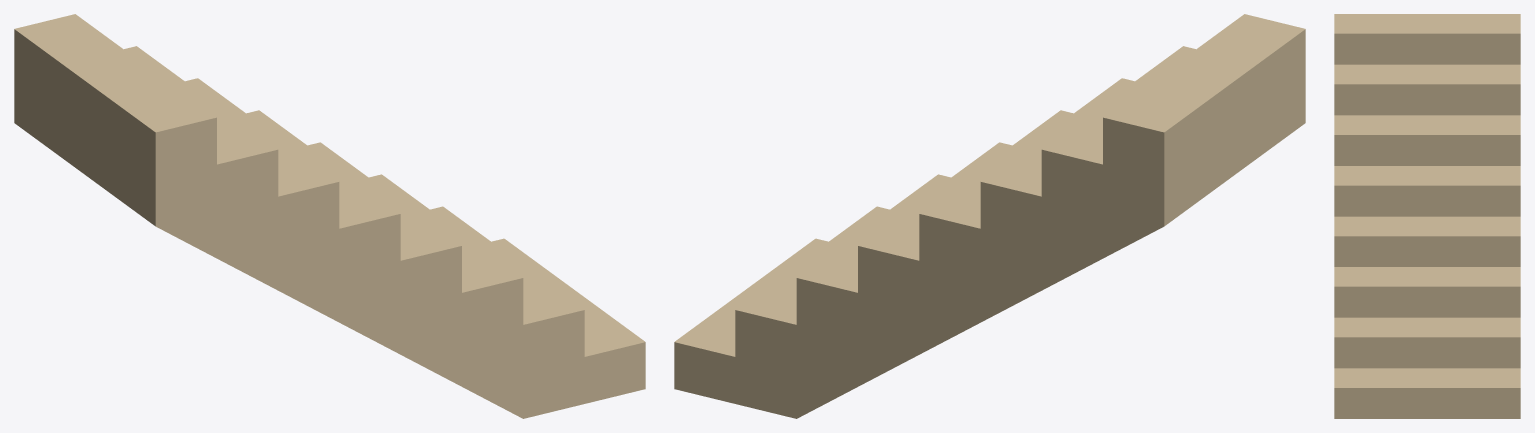
The model's file is Stairs_Wood_01.glb.
The picture shows the model from 3 angles, left to right: view 1: azimuth 30°, elevation 25°; view 2: azimuth 150°, elevation 25°; view 3: azimuth 270°, elevation 25°; orthographic projection. The views are drawn at different scales.
Parts seen in each view (by area): view 1: Mesh1 Stairs_Wood Model; view 2: Mesh1 Stairs_Wood Model; view 3: Mesh1 Stairs_Wood Model.
Part boxes in pixels (bbox=[...]): Mesh1 Stairs_Wood Model: bbox=[14, 14, 645, 418]; Mesh1 Stairs_Wood Model: bbox=[674, 14, 1305, 418]; Mesh1 Stairs_Wood Model: bbox=[1334, 14, 1520, 418].
Bounding box in the file's own units: 3 × 2.2 × 1.5.
